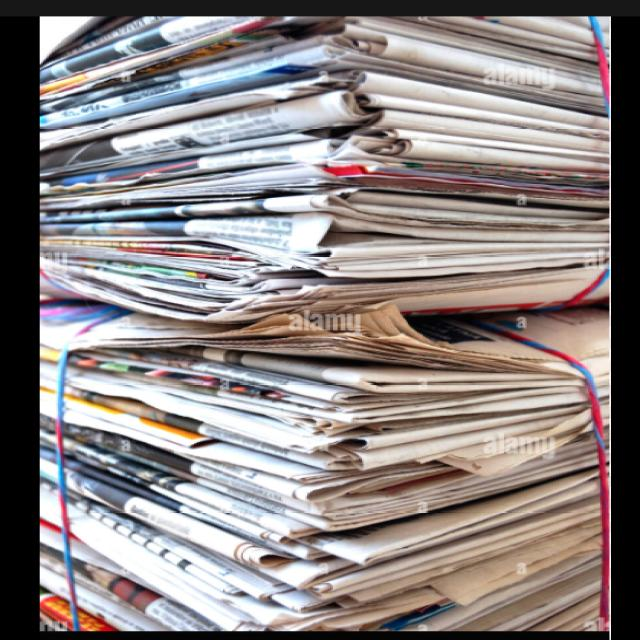Koran: (37, 15, 612, 632), (38, 15, 611, 322)
